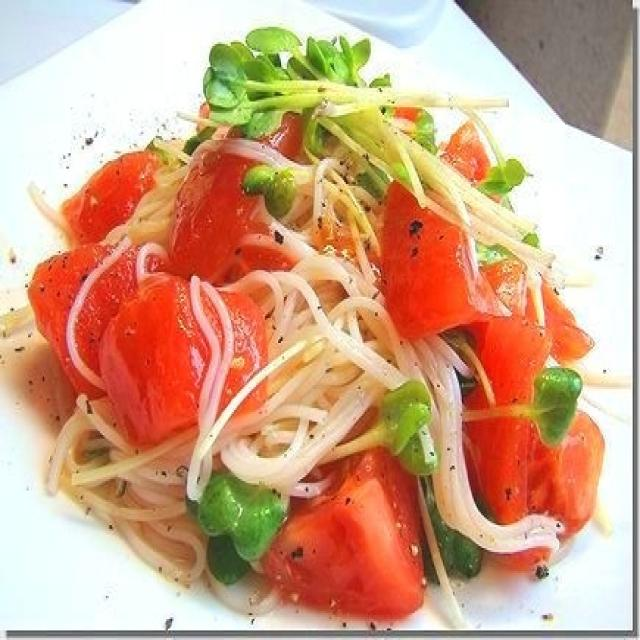面条主食: (13, 10, 624, 615)
